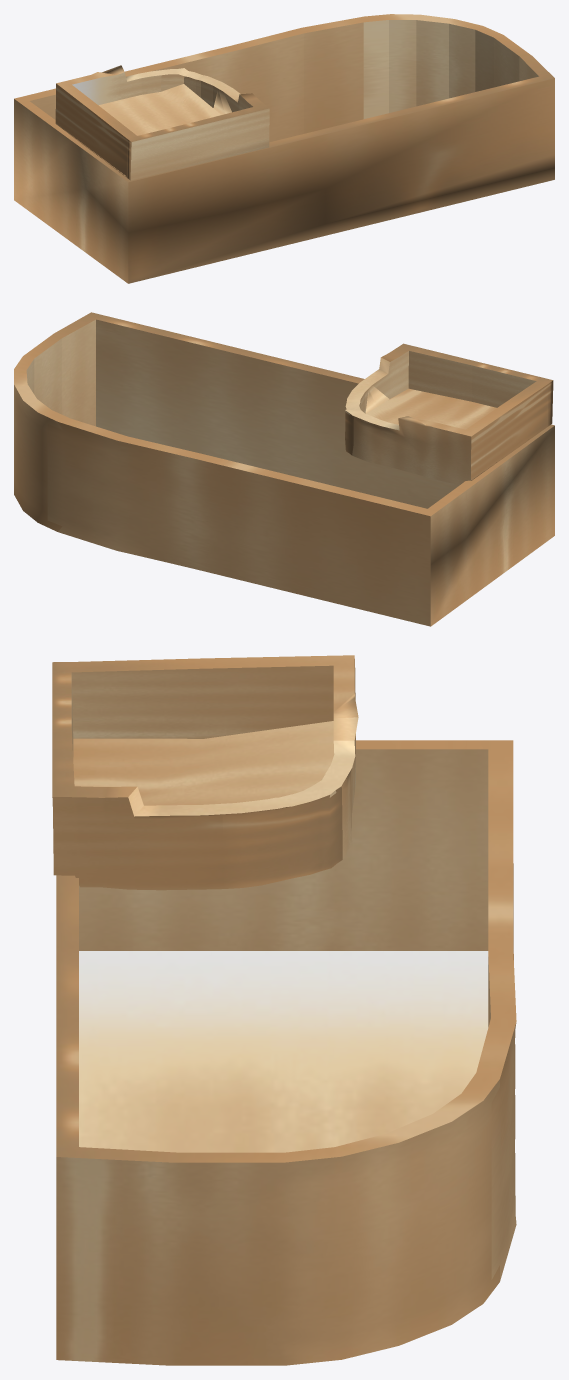
File: Fountain.fbx
The picture shows the model from 3 angles, top to bottom: view 1: azimuth 30°, elevation 25°; view 2: azimuth 150°, elevation 25°; view 3: azimuth 270°, elevation 25°; orthographic projection. The views are drawn at different scales.
Visible parts, largest first — view 1: pCube5, pasted__pCube5; view 2: pCube5, pasted__pCube5; view 3: pCube5, pasted__pCube5.
Part boxes in pixels (x1,y1,x2,y2): pCube5: (14,14,554,283); pasted__pCube5: (55,65,269,180); pCube5: (14,312,554,626); pasted__pCube5: (345,343,553,485); pCube5: (56,740,516,1365); pasted__pCube5: (52,655,358,890).
Size of the model in its own units: 90.54 by 29.34 by 42.07.
